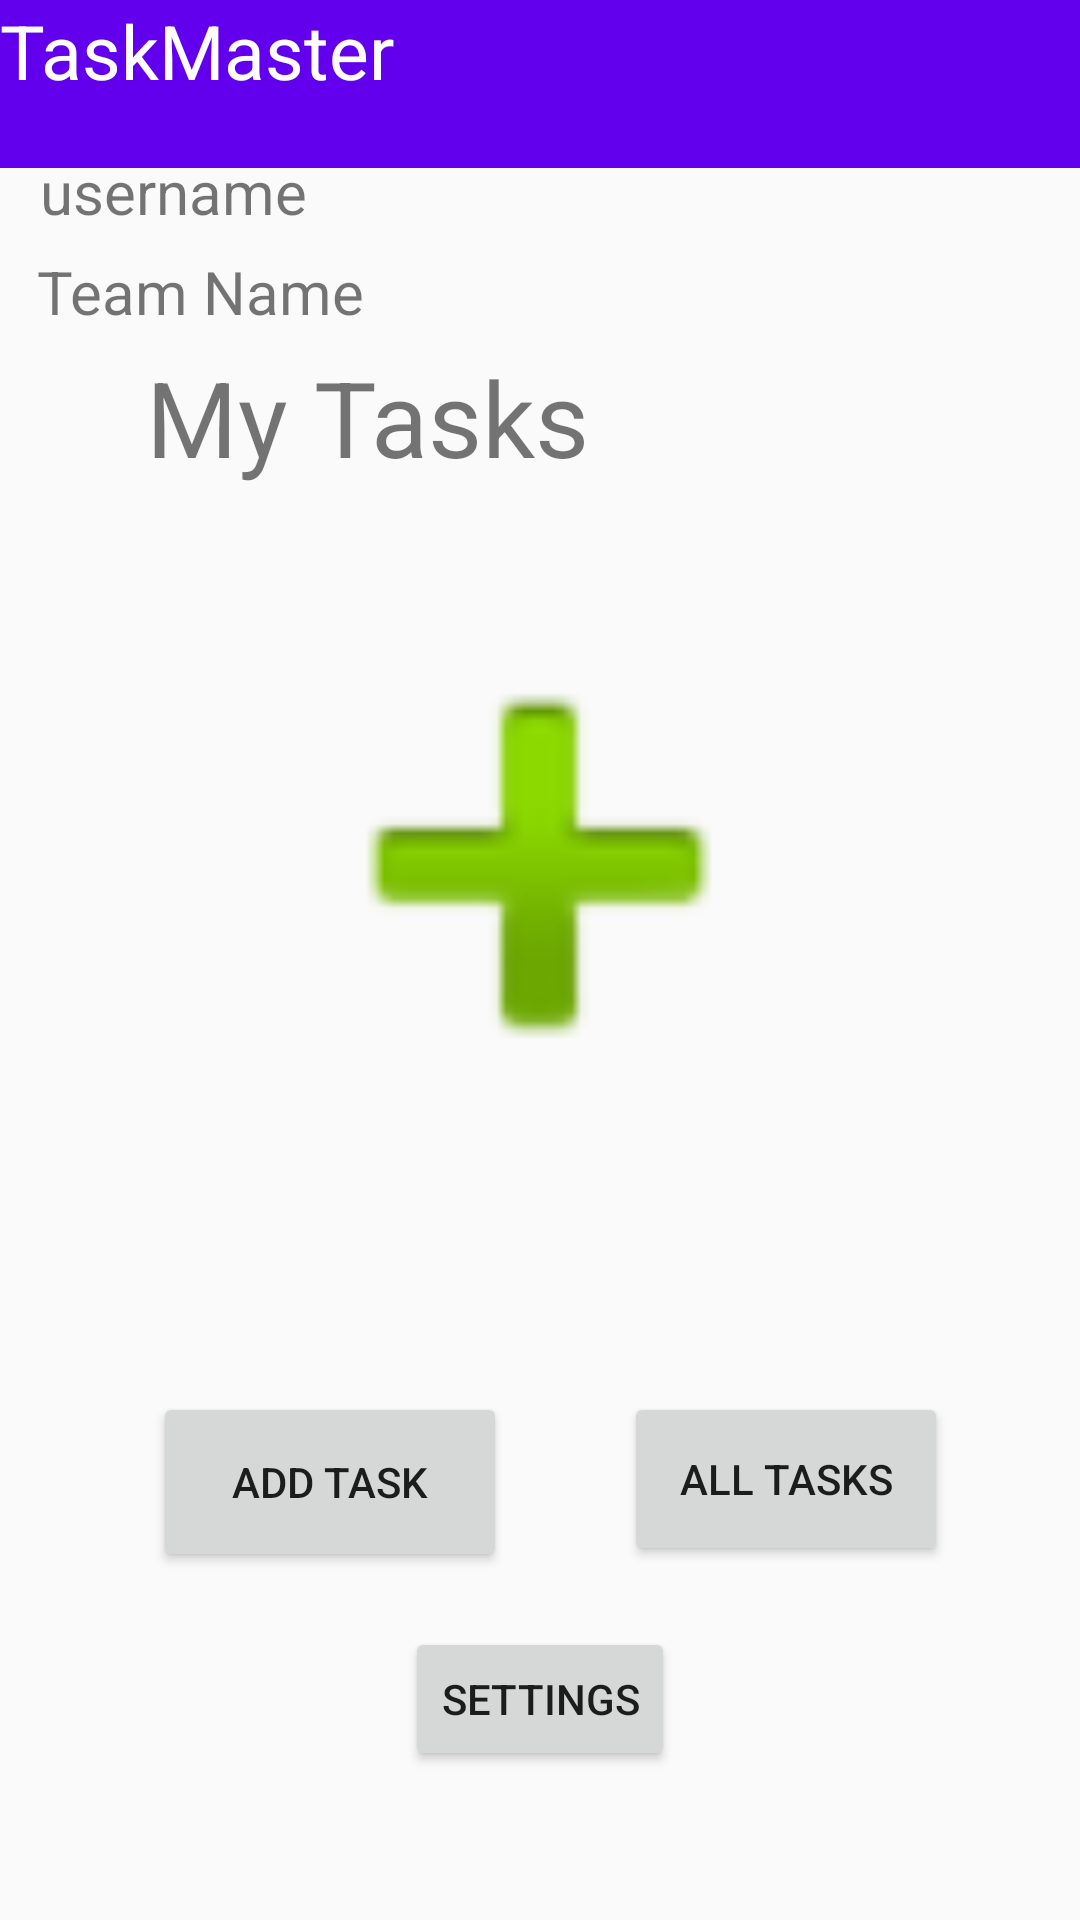

Icon bounding boxes for this 1080×1920 phone screenshot, format (x1, y1, x2, y2):
add: (368, 695, 710, 1036)
